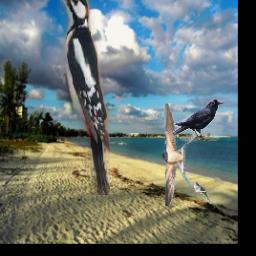Crow: (172, 99, 223, 141)
Cuckoo: (194, 182, 213, 204)
Swallow: (162, 105, 195, 207)
Woodpecker: (56, 0, 109, 195)
